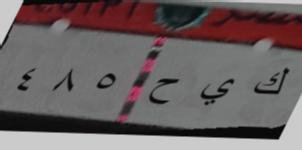4: (12, 63, 41, 100)
5: (93, 67, 124, 102)
7aa: (147, 74, 182, 112)
8: (51, 63, 80, 98)
kaaf: (249, 65, 291, 99)
yaa: (196, 73, 236, 110)
